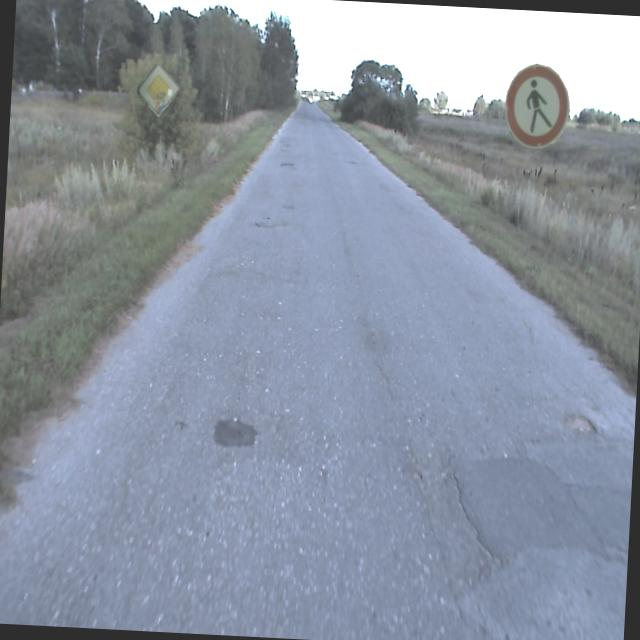road: (0, 103, 636, 640)
